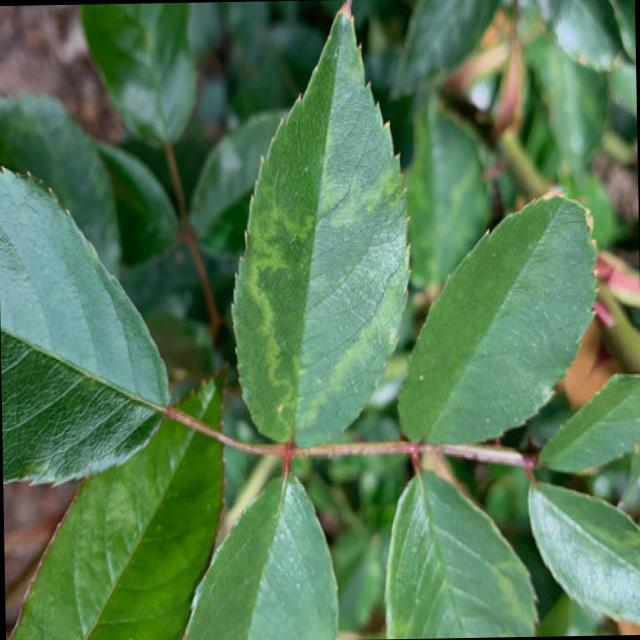Mosaic Virus: (244, 88, 402, 426)
